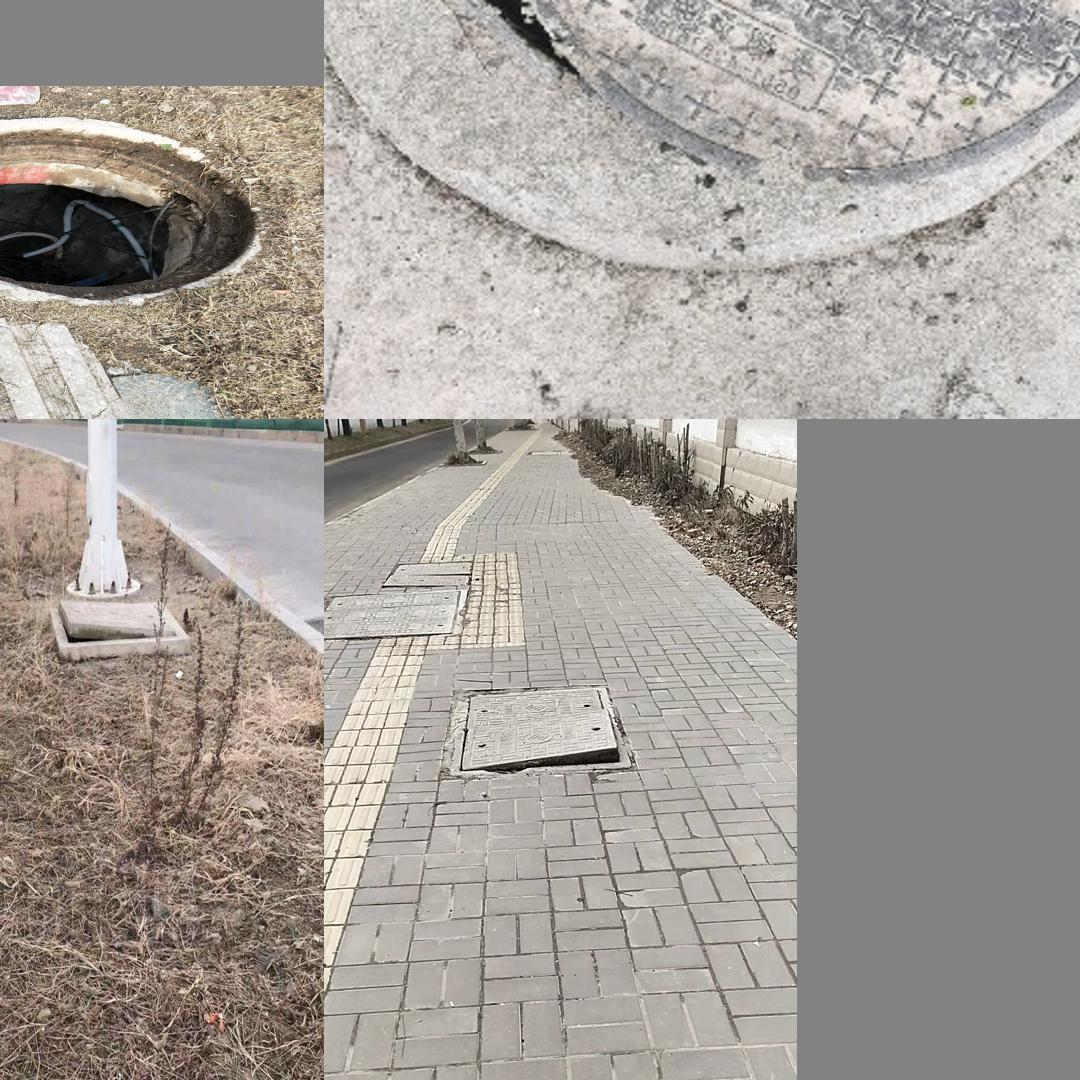good: (324, 582, 470, 640)
uncovered: (399, 0, 1080, 179), (0, 116, 267, 352), (450, 683, 637, 781), (48, 598, 188, 665)
